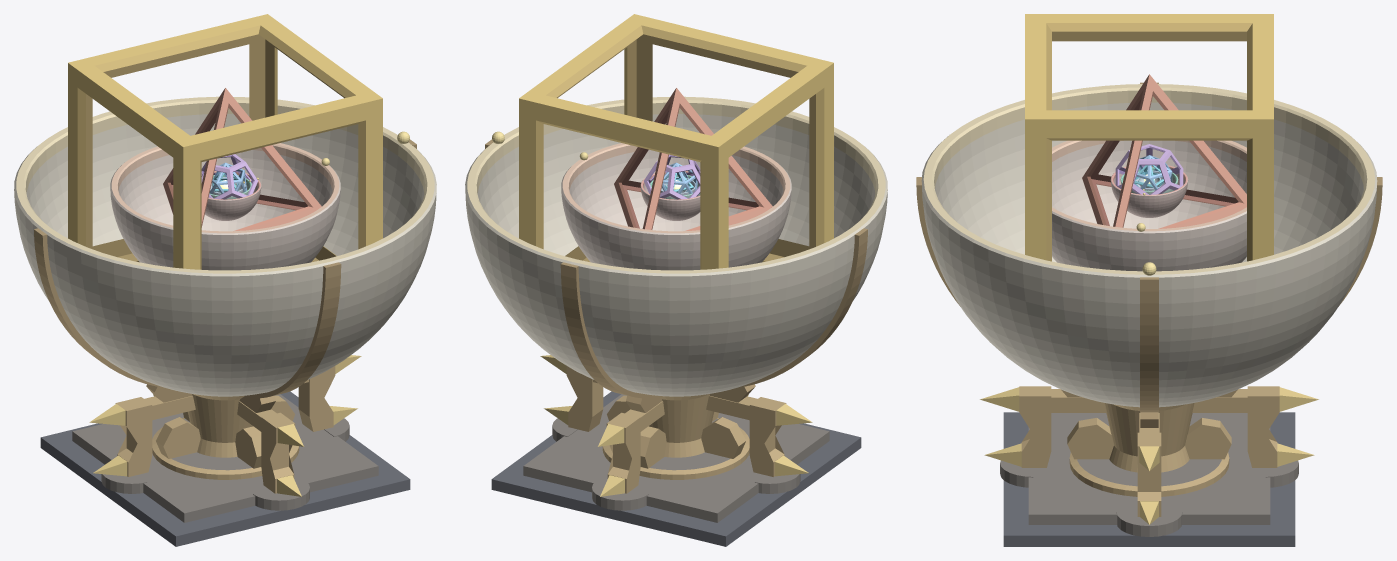
The model's file is tabula_iii.glb.
The picture shows the model from 3 angles, left to right: view 1: azimuth 30°, elevation 25°; view 2: azimuth 150°, elevation 25°; view 3: azimuth 270°, elevation 25°; orthographic projection. The views are drawn at different scales.
Parts seen in each view (by area): view 1: 02_Alpha_Saturn_Bowl, 01_Pedestal_Cradle, 03_Beta_Cube_Frame, 04_Gamma_Jupiter_Bowl, 05_Delta_Tetrahedron_Frame, 06_Epsilon_Mars_Bowl, 07_Zeta_Dodecahedron_Frame; view 2: 02_Alpha_Saturn_Bowl, 01_Pedestal_Cradle, 03_Beta_Cube_Frame, 04_Gamma_Jupiter_Bowl, 05_Delta_Tetrahedron_Frame, 06_Epsilon_Mars_Bowl, 07_Zeta_Dodecahedron_Frame; view 3: 02_Alpha_Saturn_Bowl, 01_Pedestal_Cradle, 03_Beta_Cube_Frame, 04_Gamma_Jupiter_Bowl, 05_Delta_Tetrahedron_Frame, 06_Epsilon_Mars_Bowl, 07_Zeta_Dodecahedron_Frame.
Boxes of the visible parts, x1,y1,x2,y2 form: 02_Alpha_Saturn_Bowl: [14, 96, 436, 396]; 01_Pedestal_Cradle: [34, 139, 416, 546]; 03_Beta_Cube_Frame: [68, 14, 382, 269]; 04_Gamma_Jupiter_Bowl: [110, 143, 340, 270]; 05_Delta_Tetrahedron_Frame: [163, 88, 321, 231]; 06_Epsilon_Mars_Bowl: [205, 171, 261, 220]; 07_Zeta_Dodecahedron_Frame: [201, 154, 257, 199]; 02_Alpha_Saturn_Bowl: [465, 96, 887, 396]; 01_Pedestal_Cradle: [485, 139, 867, 546]; 03_Beta_Cube_Frame: [519, 14, 833, 269]; 04_Gamma_Jupiter_Bowl: [561, 143, 791, 270]; 05_Delta_Tetrahedron_Frame: [614, 88, 772, 230]; 06_Epsilon_Mars_Bowl: [640, 171, 700, 220]; 07_Zeta_Dodecahedron_Frame: [644, 154, 700, 199]; 02_Alpha_Saturn_Bowl: [921, 84, 1377, 407]; 01_Pedestal_Cradle: [916, 82, 1382, 546]; 03_Beta_Cube_Frame: [1025, 14, 1273, 261]; 04_Gamma_Jupiter_Bowl: [1052, 140, 1246, 271]; 05_Delta_Tetrahedron_Frame: [1082, 74, 1246, 228]; 06_Epsilon_Mars_Bowl: [1110, 165, 1188, 217]; 07_Zeta_Dodecahedron_Frame: [1115, 144, 1183, 194].
Size of the model in its own units: 2.04 by 2.03 by 2.04.
